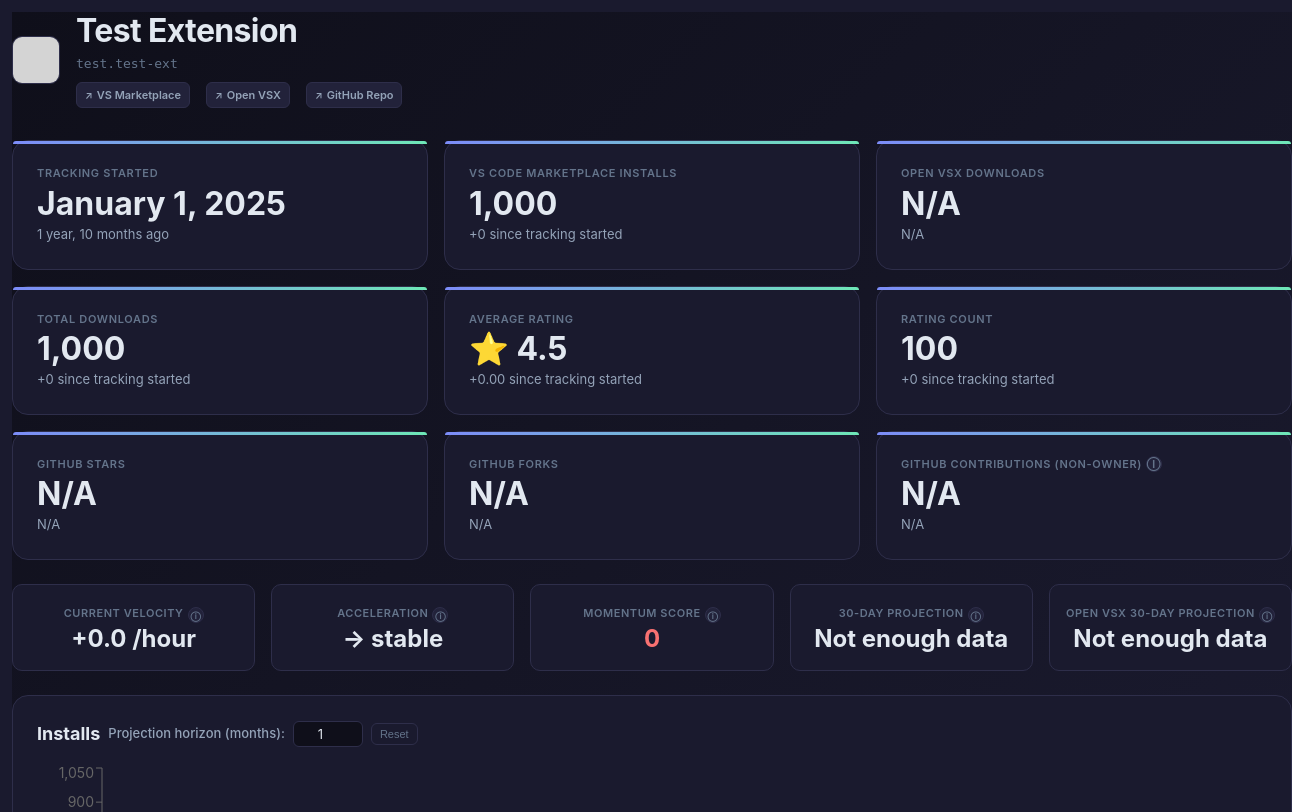
Scenario: ExtensionDetail › clamps projection months to max 24
Replace the text in the number field labelled "Projection horizon (months):" with "100" at [328, 734], box [293,721,363,747]
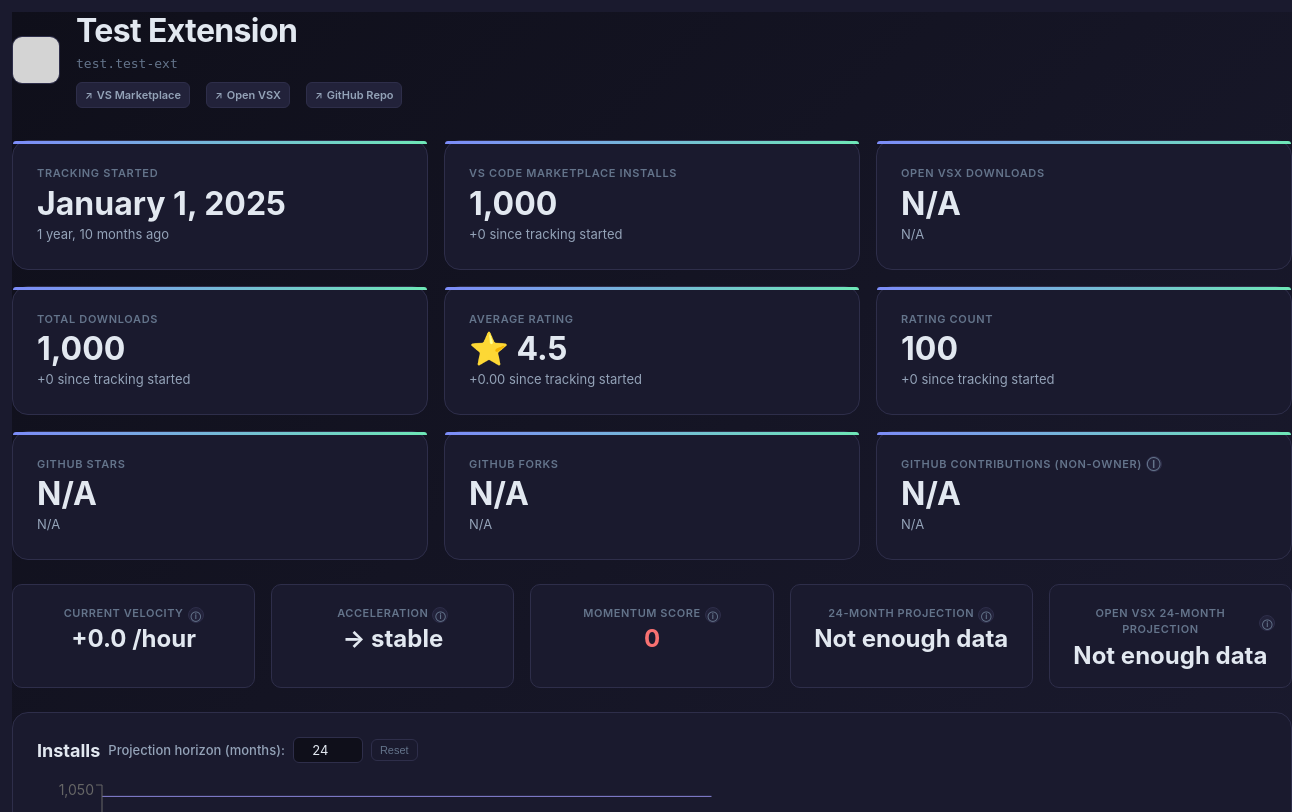
Expected: the number field labelled "Projection horizon (months):" holds "24", [293,737,363,763]
